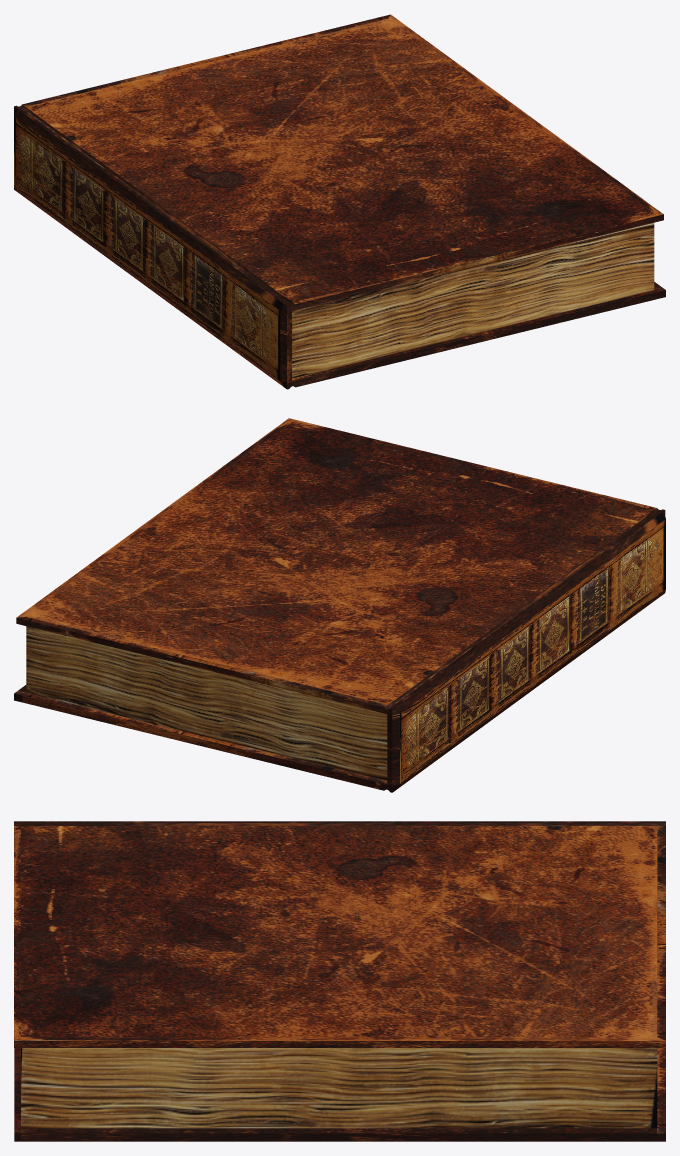
File: old_book.glb
3 renders of one model, top to bottom at view 1: azimuth 30°, elevation 25°; view 2: azimuth 150°, elevation 25°; view 3: azimuth 270°, elevation 25°, orthographic. The views are drawn at different scales.
Visible parts, largest first — view 1: Object_2; view 2: Object_2; view 3: Object_2.
Boxes of the visible parts, x1=… form: Object_2: x1=14, y1=14, x2=665, y2=389; Object_2: x1=14, y1=418, x2=665, y2=792; Object_2: x1=14, y1=821, x2=665, y2=1141.
Size of the model in its own units: 1.59 by 0.3312 by 1.97.
1 material, 1 textured.
